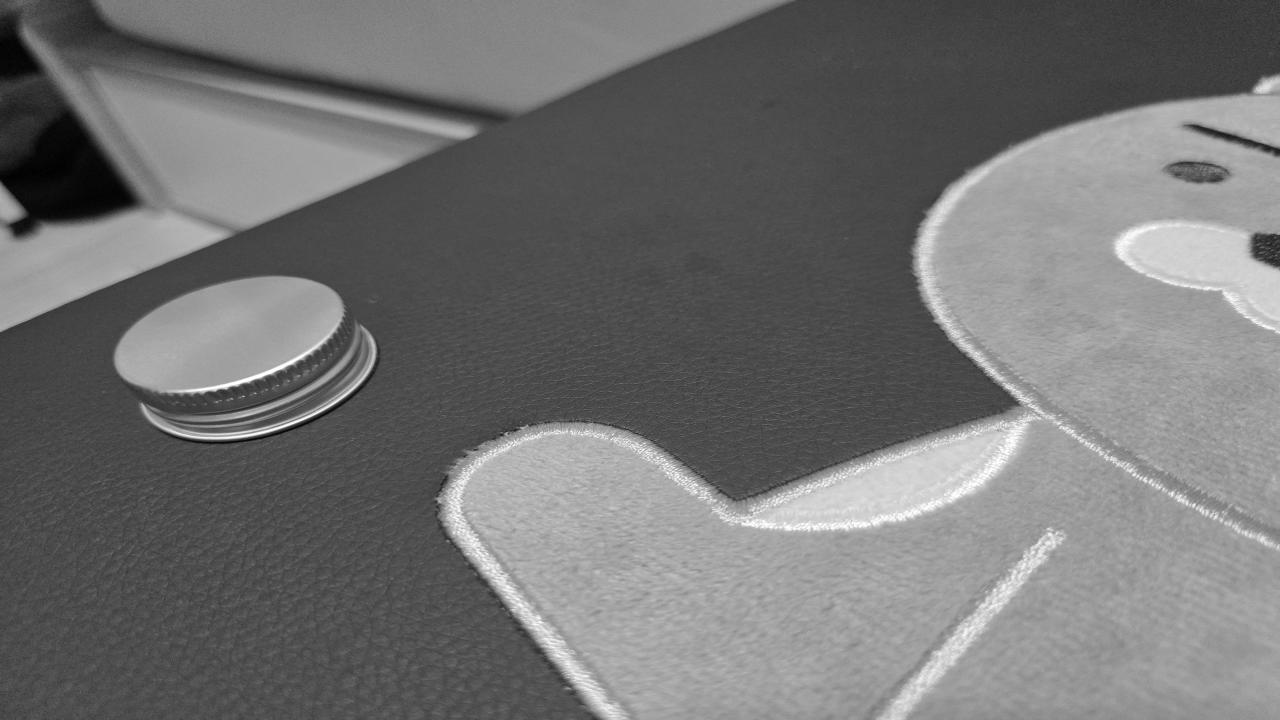bottle_cap: (108, 270, 380, 444)
